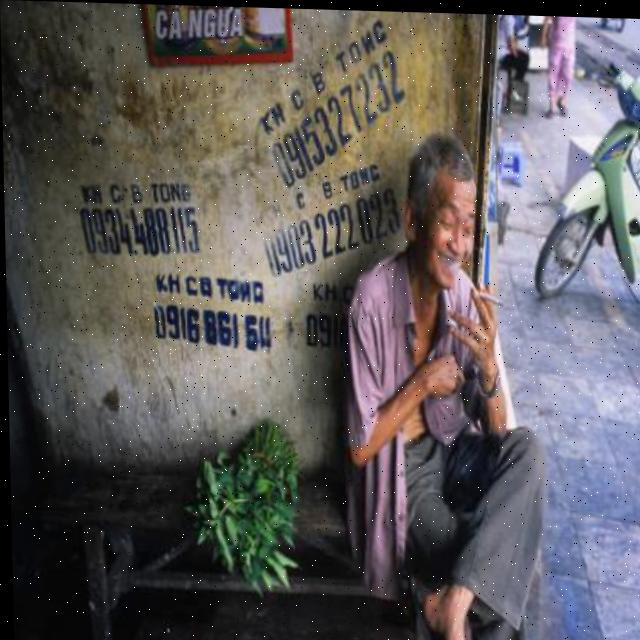cigarette: (478, 287, 502, 306)
